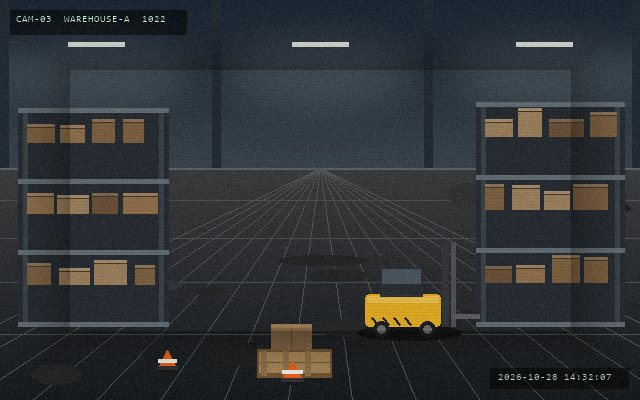cone: (280, 359, 304, 384), (156, 348, 178, 372)
forklift: (361, 240, 481, 340)
pallet: (294, 363, 294, 363)
shelf: (476, 102, 624, 322), (18, 108, 168, 322)
